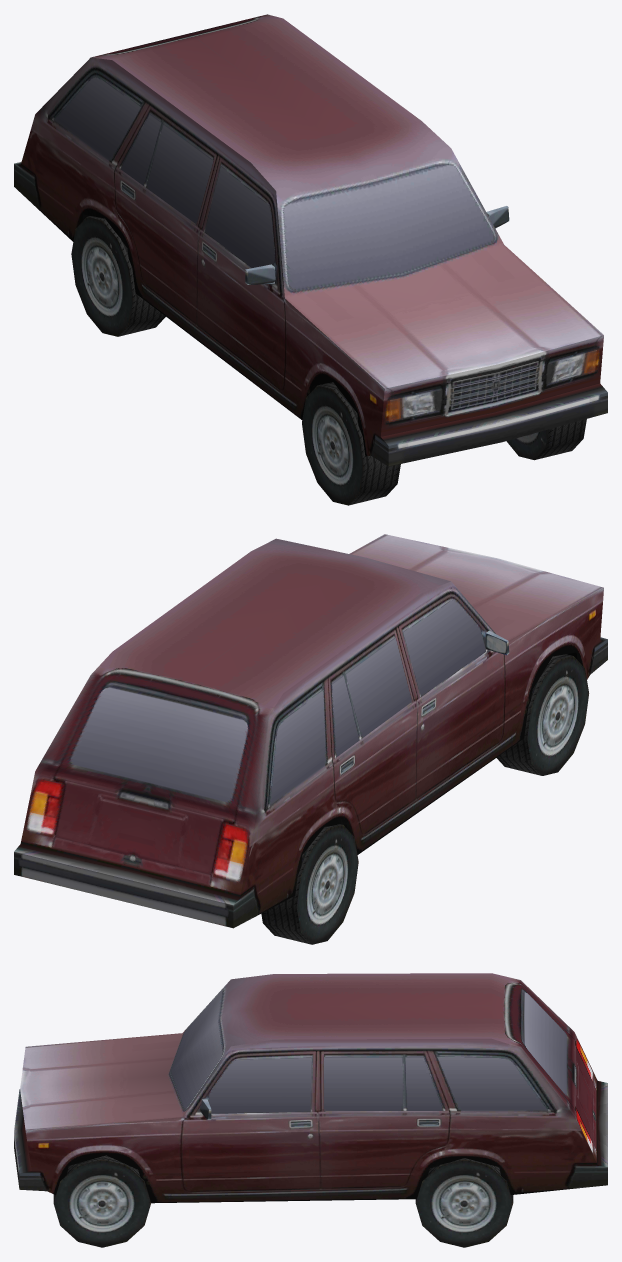
The model's file is 05_lada_2104.glb.
The picture shows the model from 3 angles, top to bottom: view 1: azimuth 30°, elevation 25°; view 2: azimuth 150°, elevation 25°; view 3: azimuth 270°, elevation 25°; orthographic projection. The views are drawn at different scales.
Visible parts, largest first — view 1: Lada2104LP_26, WheelMesh.001_23, WheelMesh.002_24, WheelMesh_22; view 2: Lada2104LP_26, WheelMesh.002_24, WheelMesh.001_23; view 3: Lada2104LP_26, WheelMesh_22, WheelMesh.003_25.
Boxes of the visible parts, box(x1,y1,x2,y2) form: Lada2104LP_26: box(14, 14, 607, 466); WheelMesh.001_23: box(302, 382, 400, 505); WheelMesh.002_24: box(71, 216, 165, 336); WheelMesh_22: box(506, 419, 586, 460); Lada2104LP_26: box(14, 534, 607, 928); WheelMesh.002_24: box(261, 824, 358, 944); WheelMesh.001_23: box(496, 654, 589, 775); Lada2104LP_26: box(14, 973, 607, 1203); WheelMesh_22: box(53, 1155, 150, 1247); WheelMesh.003_25: box(415, 1158, 513, 1247).
Bounding box in the file's own units: 1.66 × 1.53 × 4.14.
Materials: 2 (1 with a texture image).
